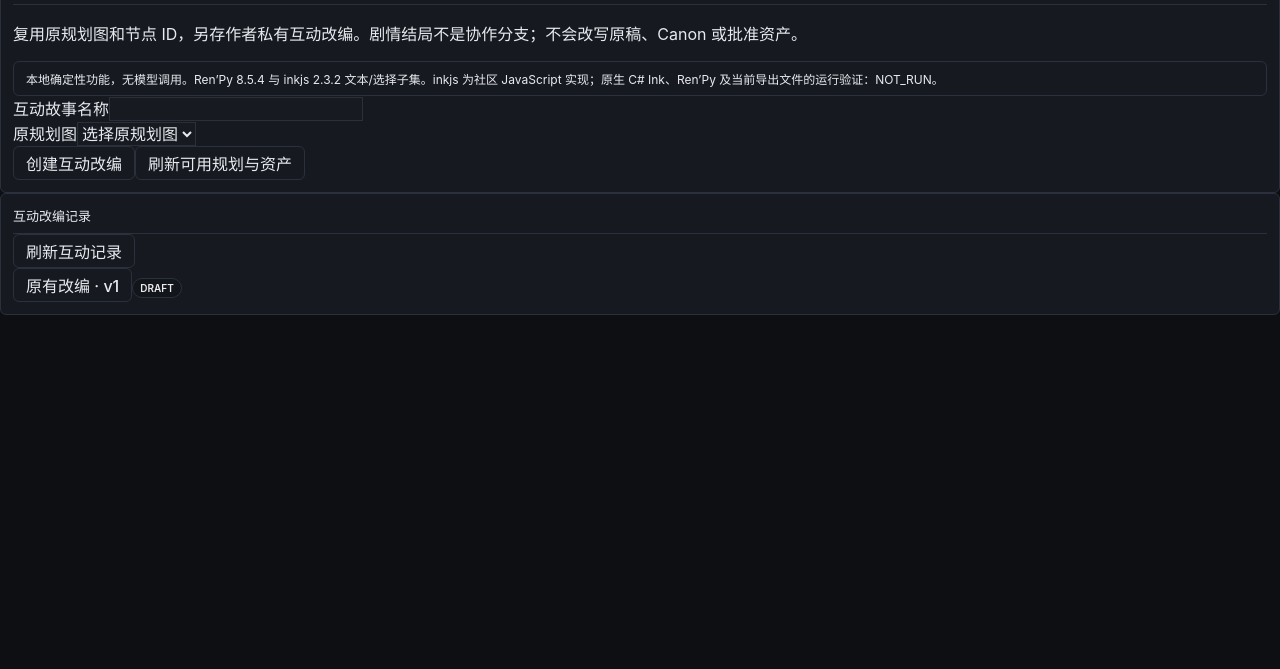
rejects retained dialogue after confirmation in the same batch and after rerender
Click the button "原有改编 · v1" at (73, 285), box x1=13 y1=268 x2=132 y2=302
(page scrolled)
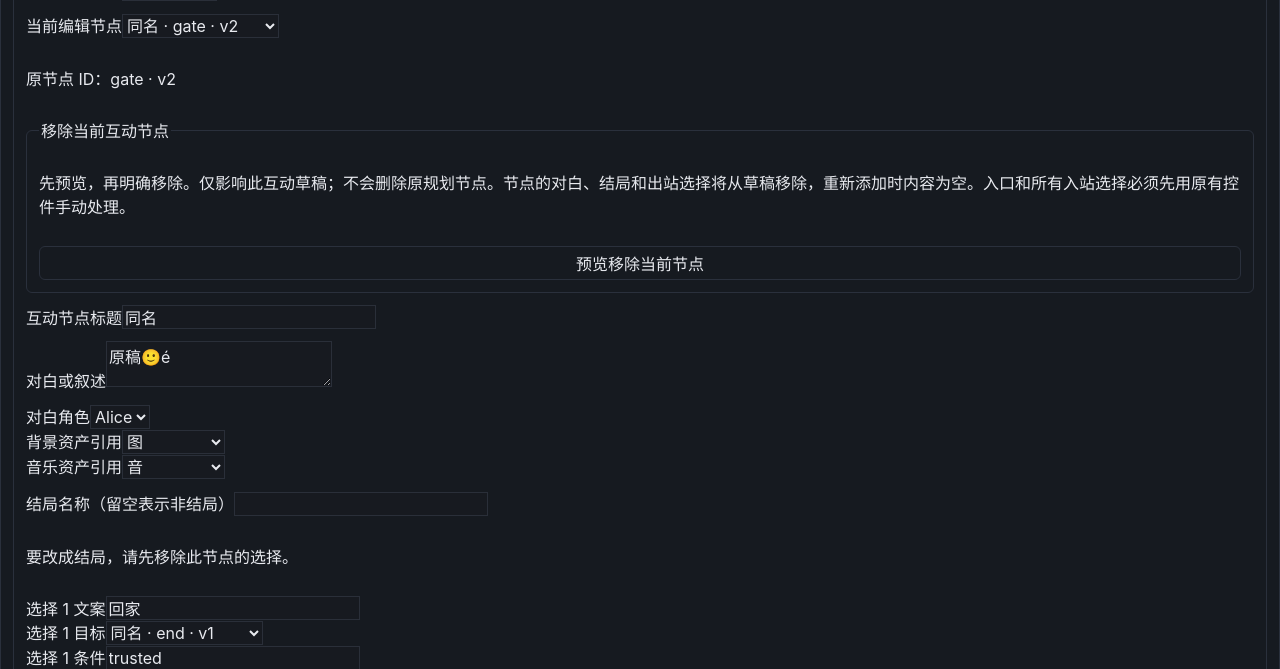
Replace the text in the text box labelled "对白或叙述" with "保留新稿🙂é" at (219, 364), box x1=106 y1=341 x2=332 y2=387
(page scrolled)
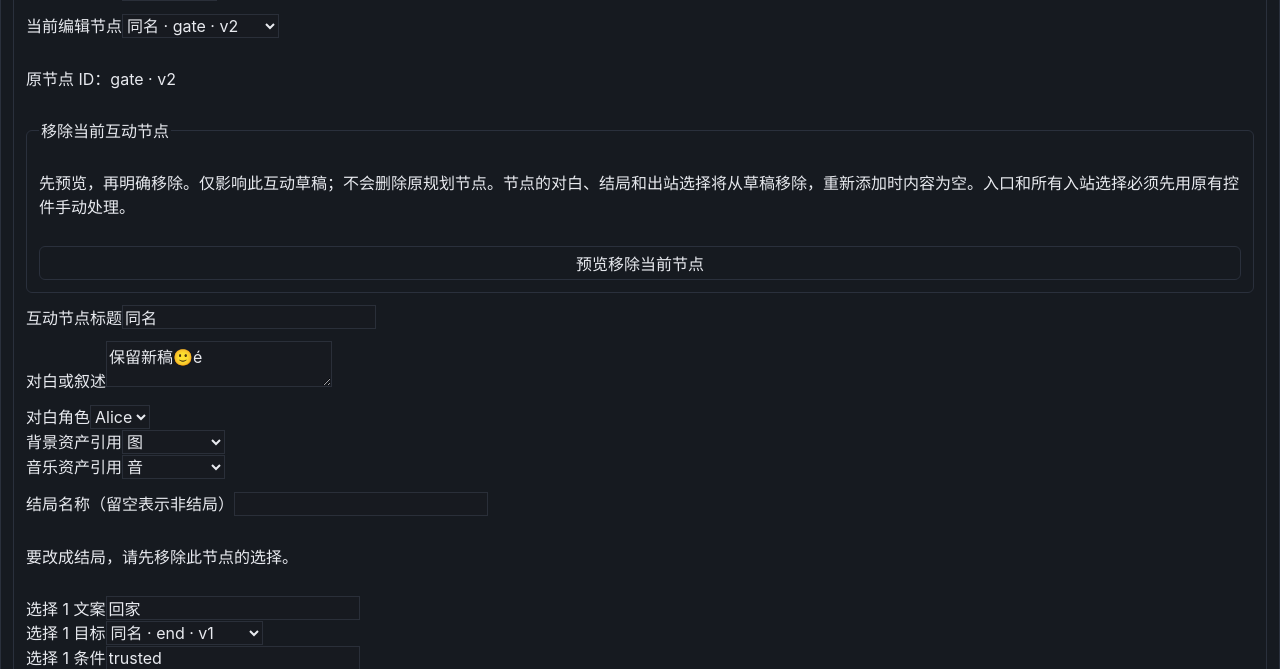
Select "同名 · unused · v4" in the dropdown labelled "当前编辑节点" at (200, 26), box x1=122 y1=14 x2=279 y2=38
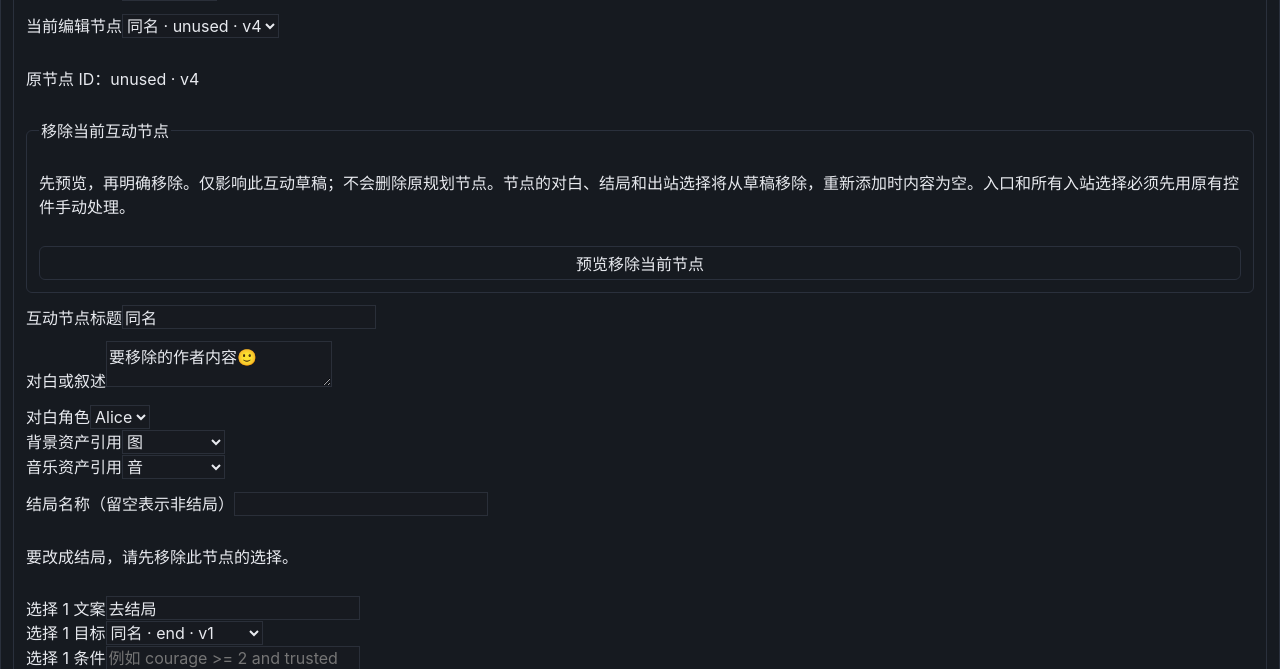
Click the button "预览移除当前节点" at (640, 263), box x1=39 y1=246 x2=1241 y2=280
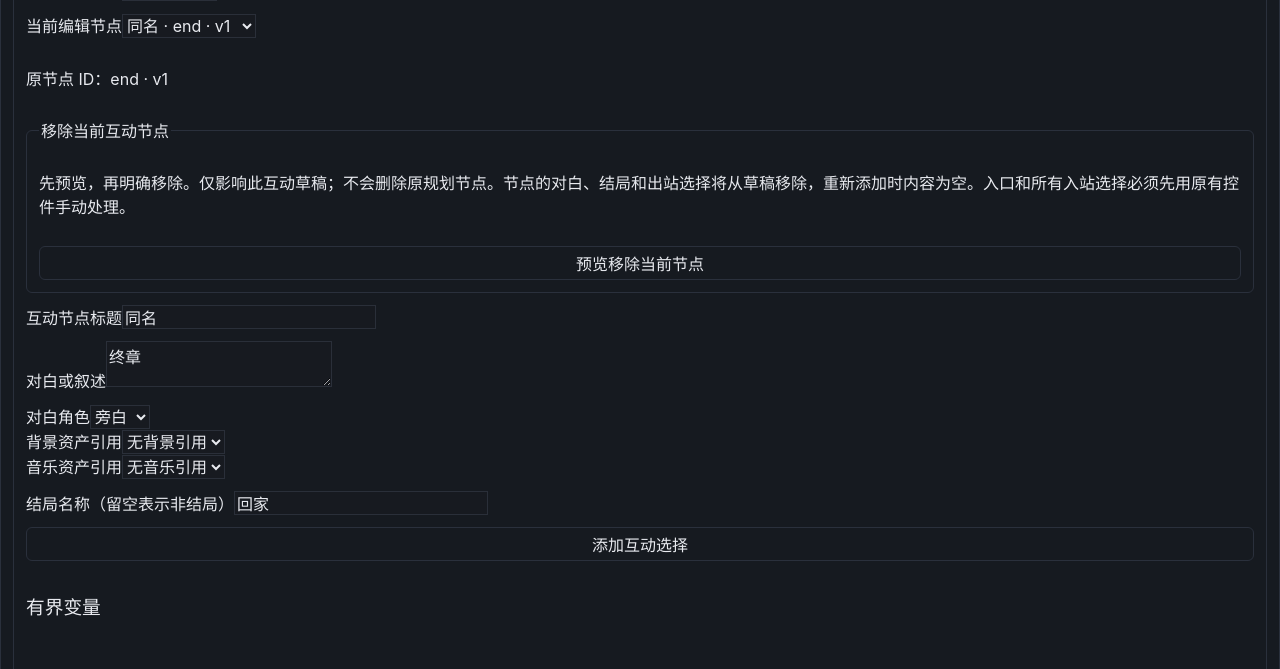
Select "同名 · gate · v2" in the dropdown labelled "当前编辑节点" at (189, 26), box x1=122 y1=14 x2=256 y2=38
(page scrolled)
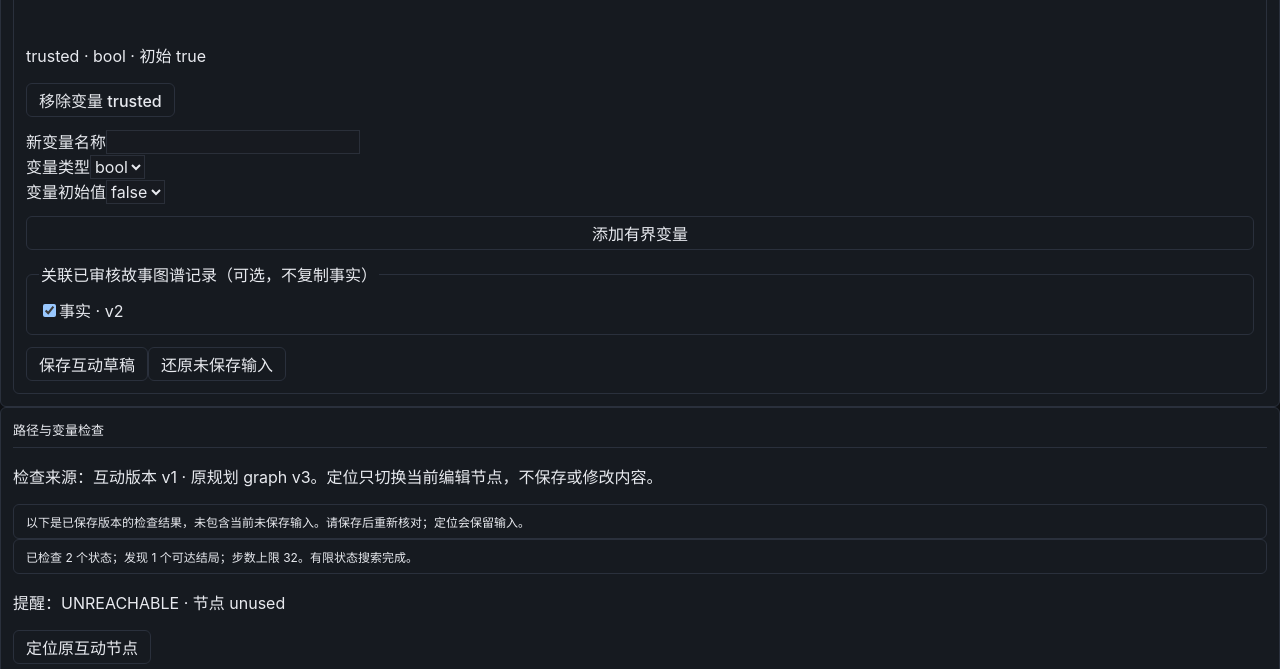
Click the button "保存互动草稿" at (87, 364), box x1=26 y1=347 x2=148 y2=381
(page scrolled)
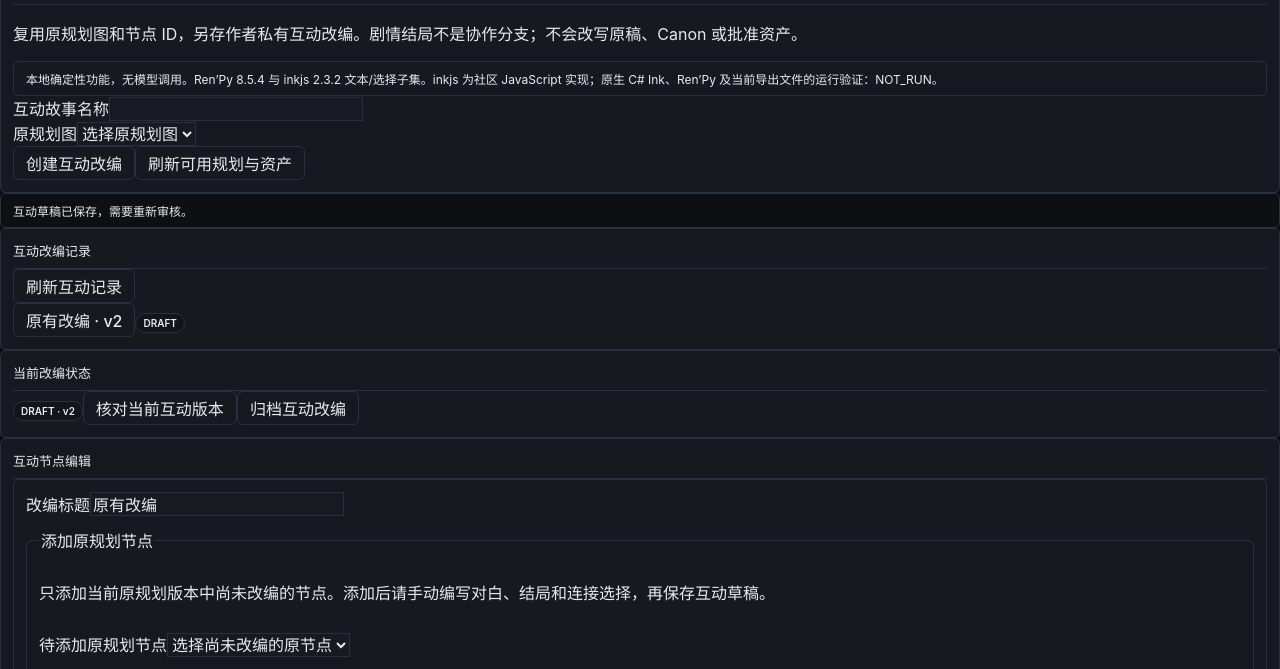
Check: the text "互动草稿已保存，需要重新审核。" is shown, box x1=0 y1=193 x2=1279 y2=228
